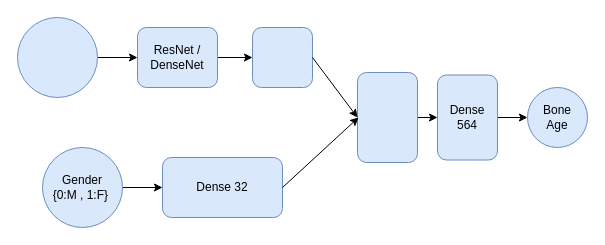
The diagram is 605 pixels wide and 245 high, and some of its shapes have lost their labels. Here are the shapes that lost their labels. From the top down, the centre of each, then its label:
At point 57,57: "Pixels (512x512)".
At point 282,57: "Dense 512".
At point 387,117: "Dropout (p=0.2)".
